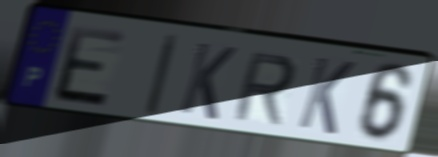6: (355, 60, 415, 147)
E: (51, 22, 129, 111)
I: (141, 32, 181, 119)
K: (294, 53, 358, 138), (176, 39, 240, 124)
R: (230, 50, 300, 128)
